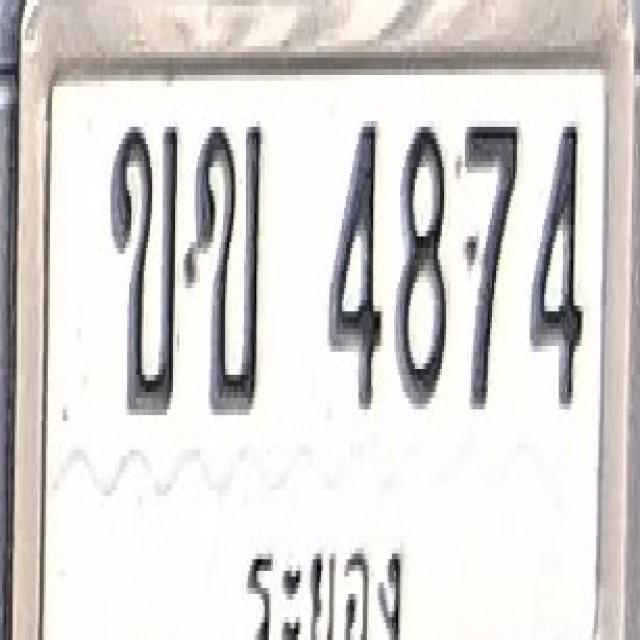4: (326, 116, 383, 410), (527, 118, 584, 407)
7: (460, 118, 520, 412)
8: (393, 118, 447, 407)
A02: (186, 118, 264, 412), (109, 118, 180, 412)
RYG: (238, 523, 408, 640)
